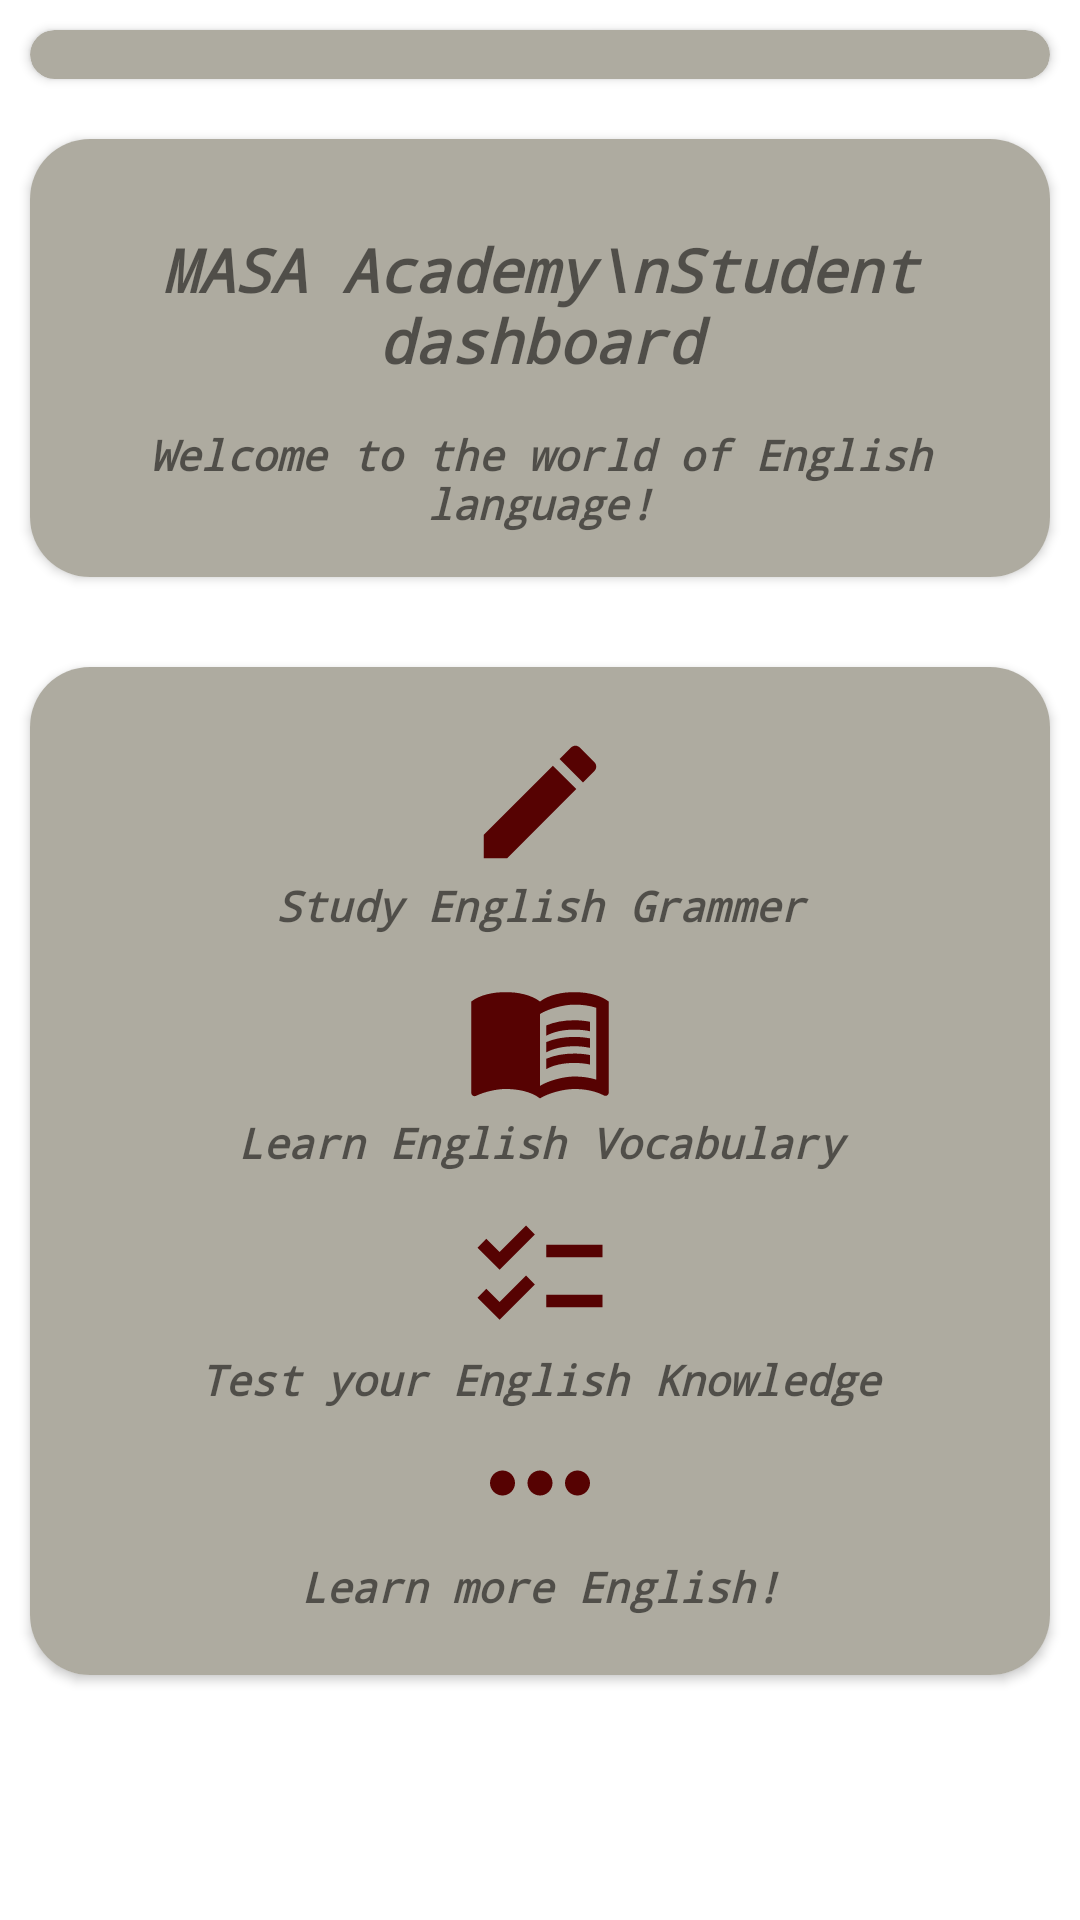

Screen size 1080 × 1920. Icon name, then its box in pixels as bbox(x1, y1, x2, y2):
exam: bbox(477, 1225, 603, 1320)
